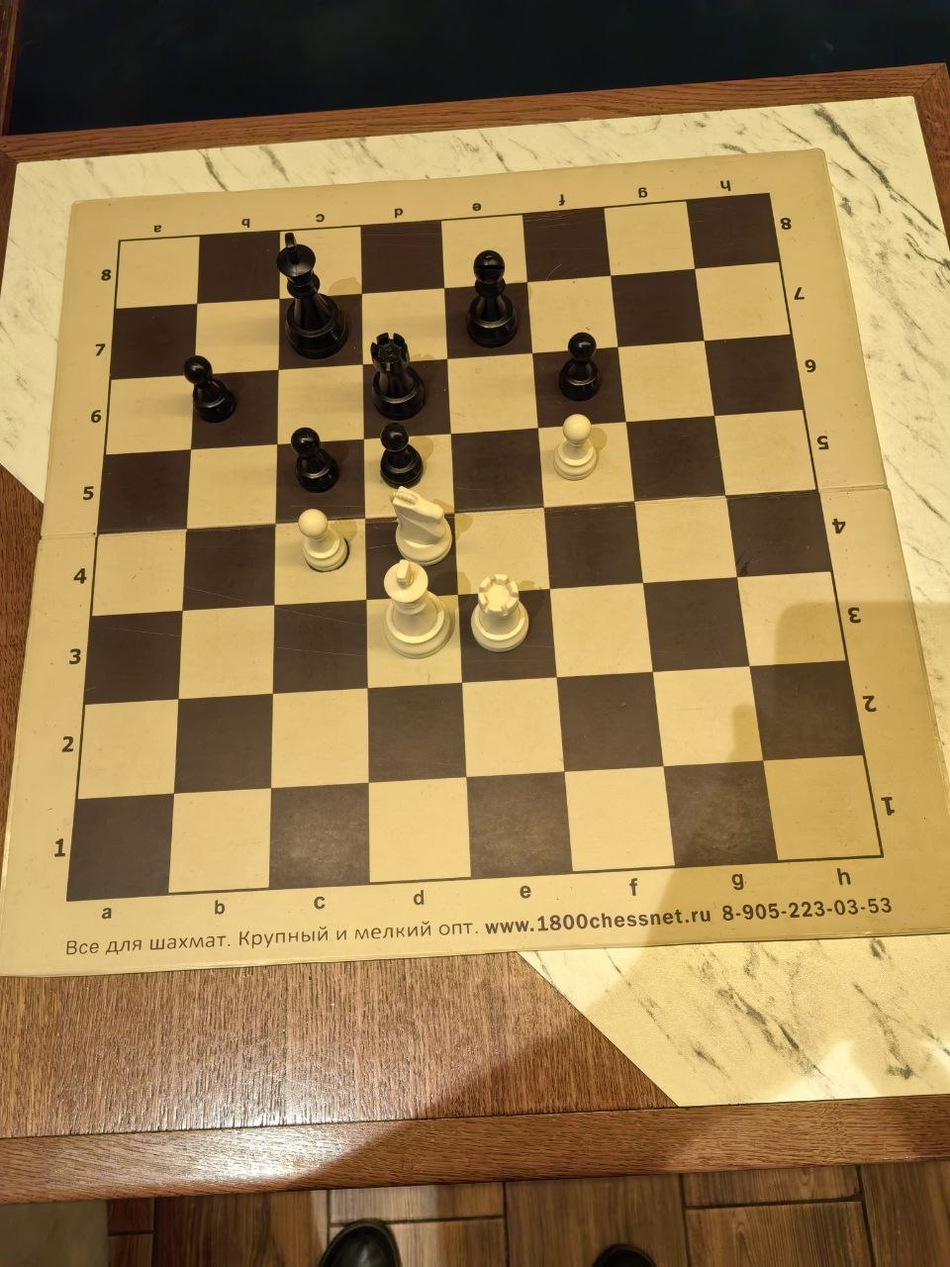black-bishop: (356, 792, 475, 950)
black-knight: (475, 792, 594, 950)
black-queen: (356, 634, 475, 792)
black-rook: (594, 475, 712, 634), (238, 634, 356, 792)
white-bishop: (238, 158, 356, 317)
white-knight: (356, 317, 475, 475)
white-pawn: (475, 158, 594, 317)
white-rook: (356, 475, 475, 634), (119, 317, 238, 475), (238, 475, 356, 634), (594, 317, 712, 475)
